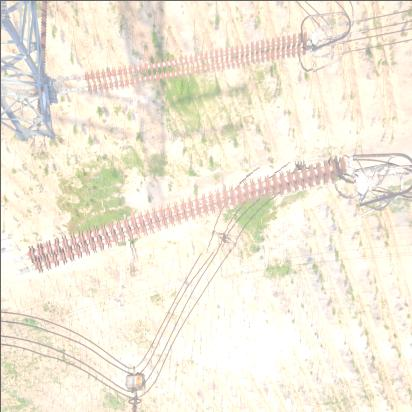insulator: (8, 166, 361, 268), (76, 30, 313, 97)
